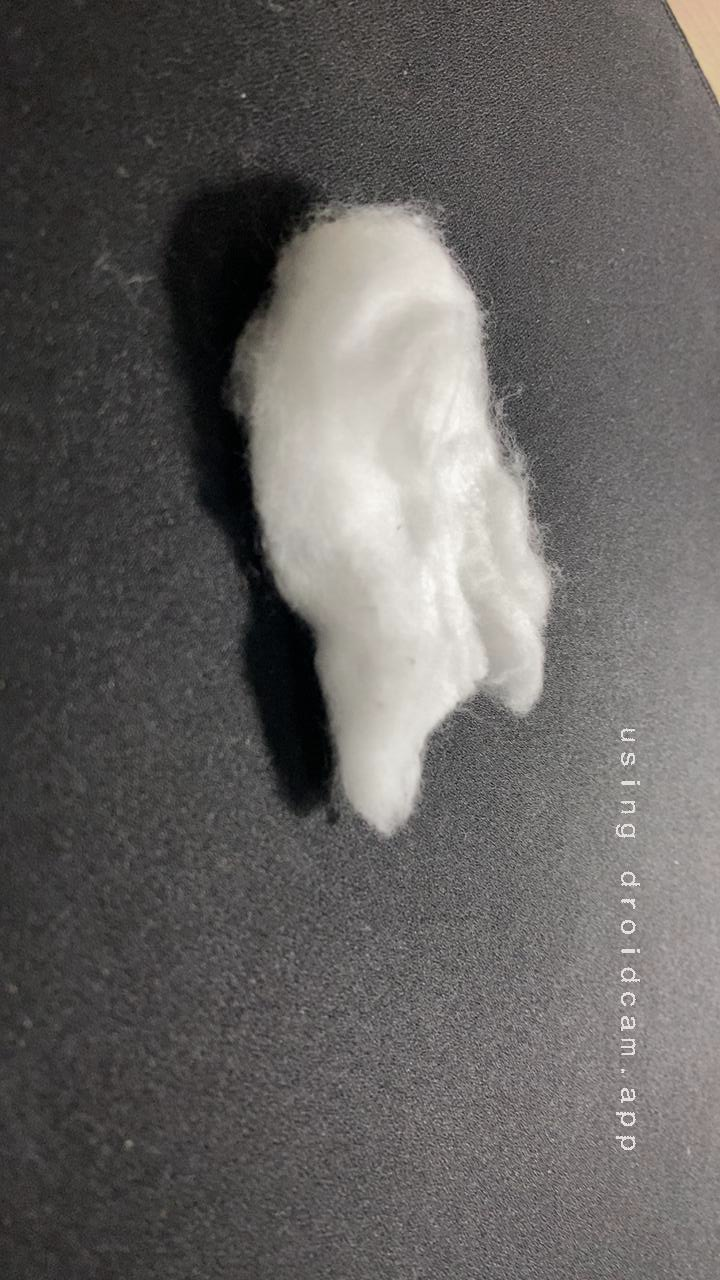cotton: (179, 188, 627, 878)
